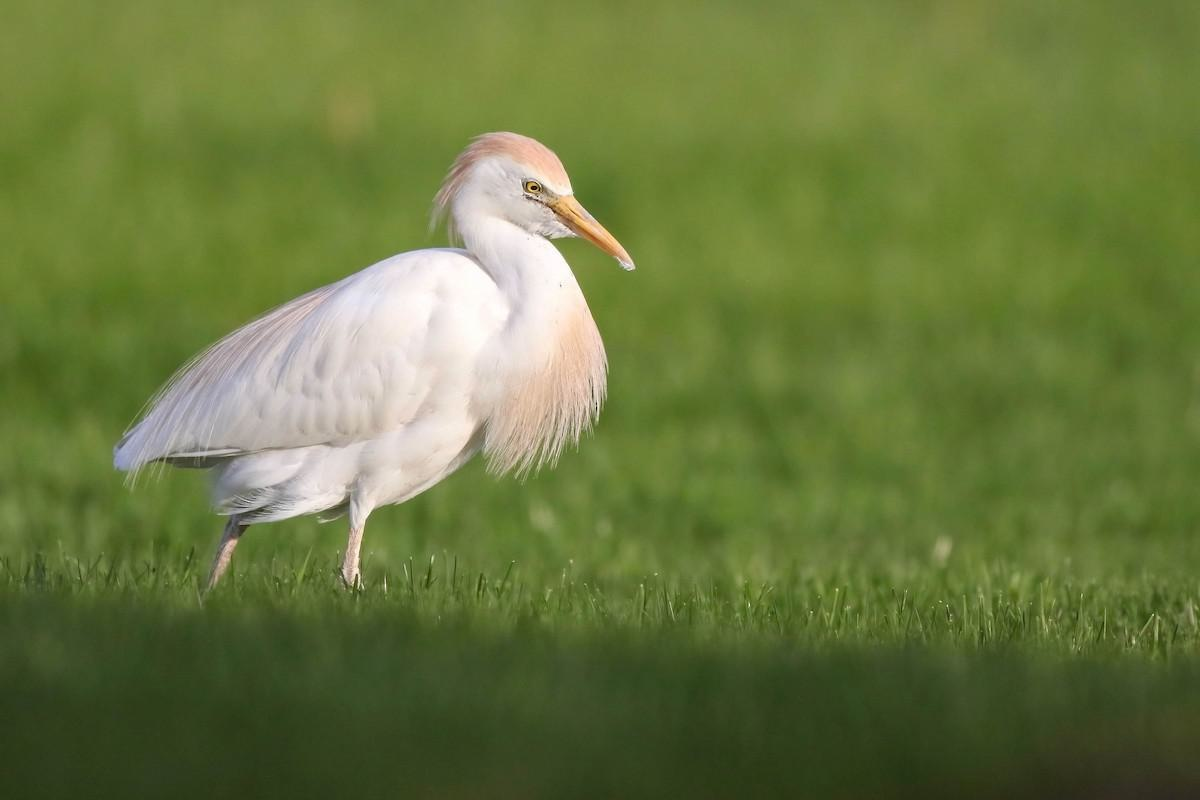egret: (108, 127, 659, 599)
